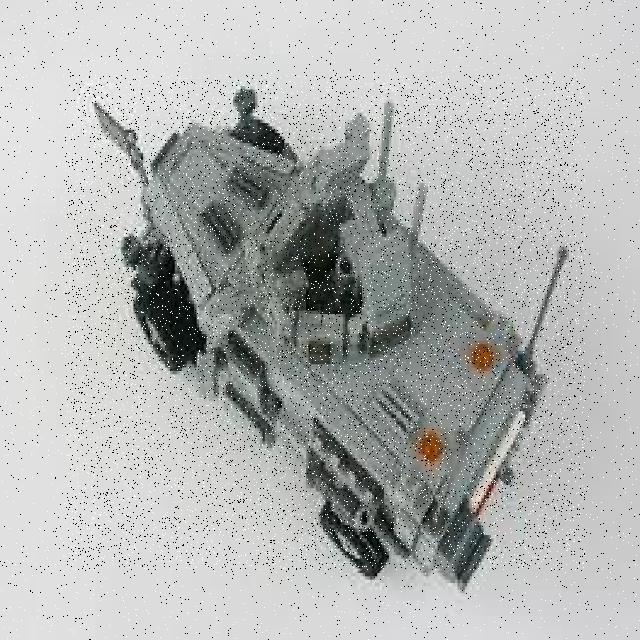MIL_MBT: (65, 76, 584, 570)
